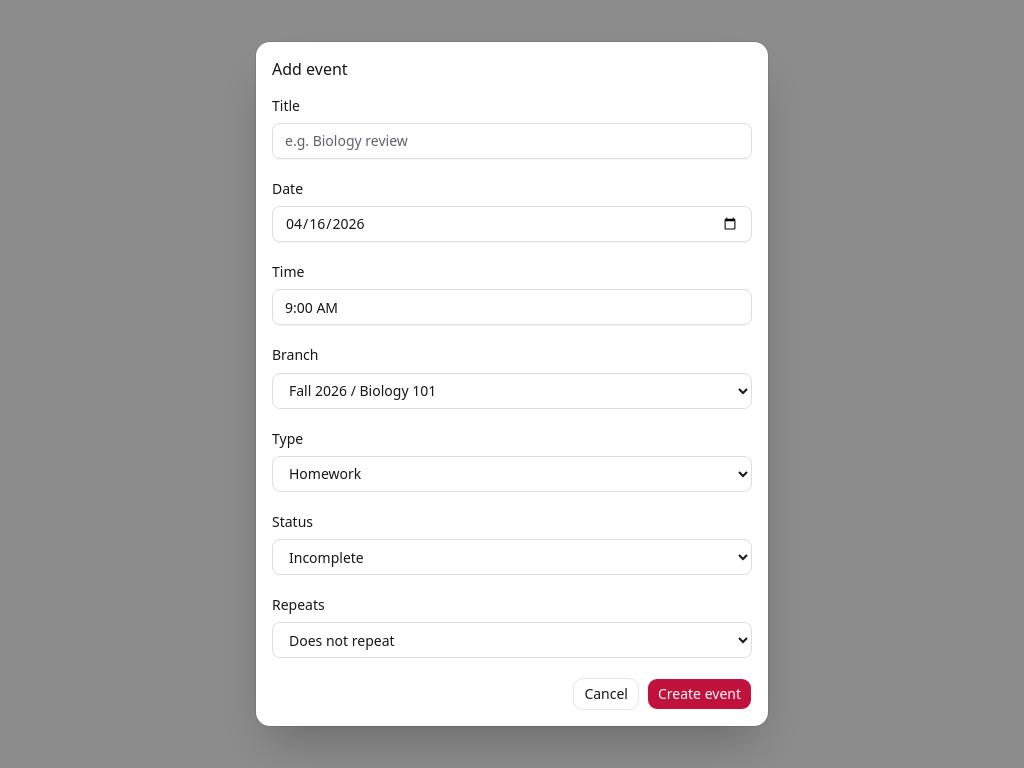
it: EventOverlay › asks when a repeating task ends, and submits that
Expected: the field labelled "Repeats until" is not shown
Type "Problem set" into the field labelled "Title" at {"x": 512, "y": 141}, box [272, 123, 752, 159]
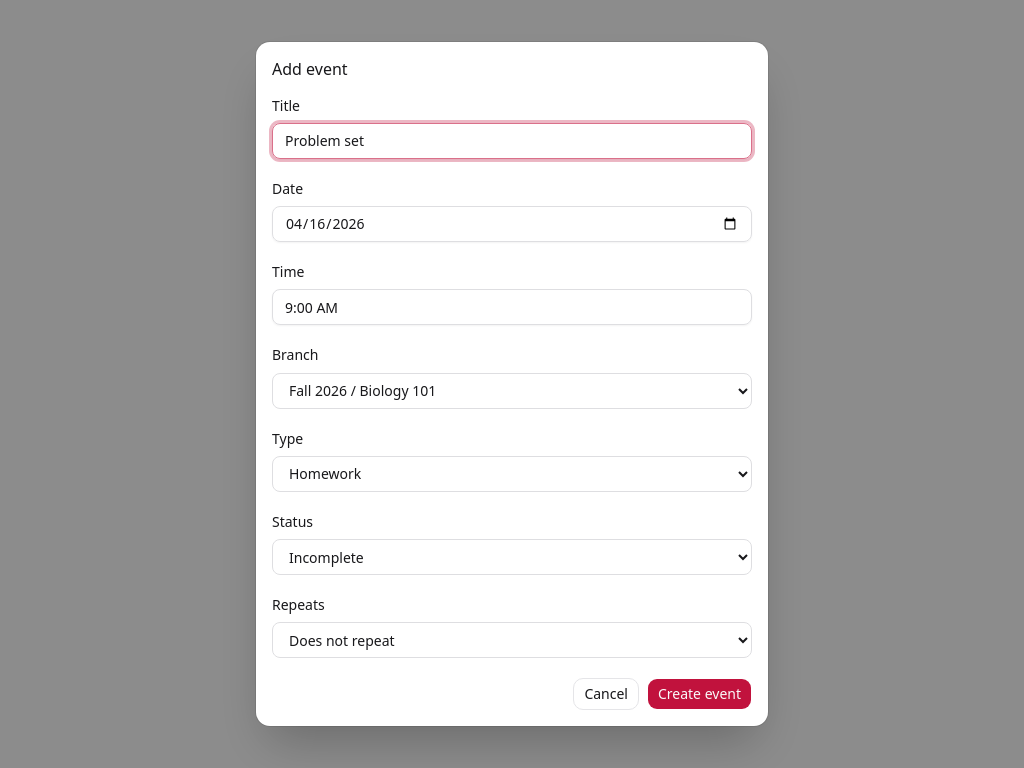
Select "Every week" in the dropdown labelled "Repeats" at {"x": 512, "y": 640}, box [272, 622, 752, 658]
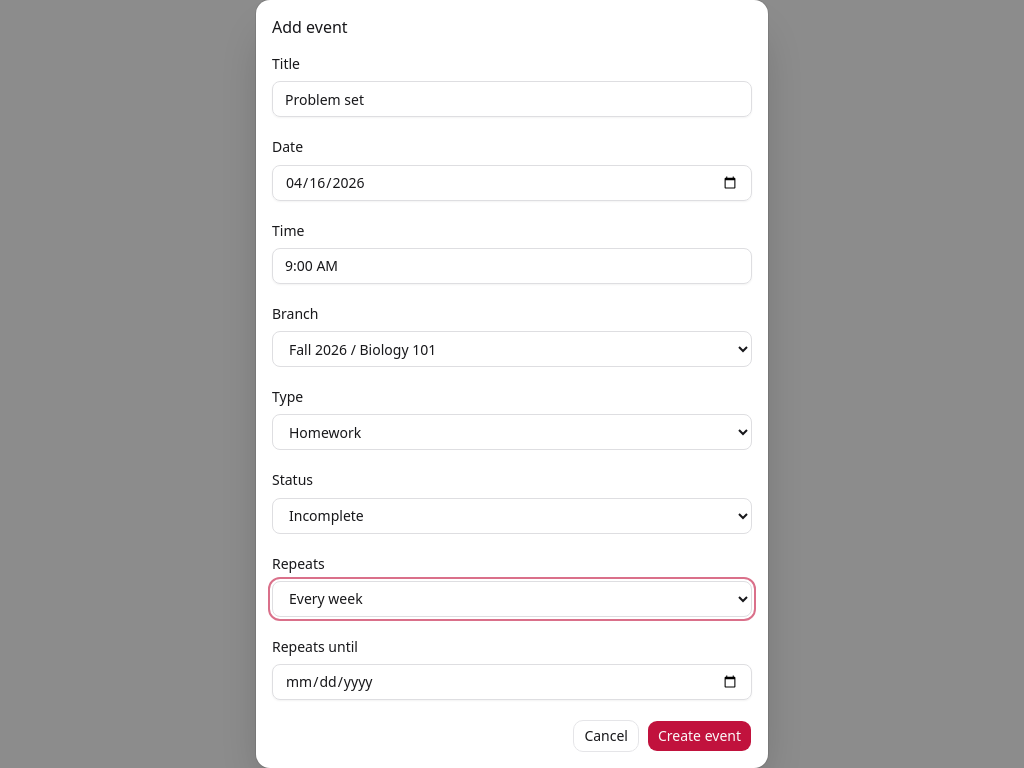
Click the button "Create event" at {"x": 700, "y": 736}, box [647, 720, 752, 752]
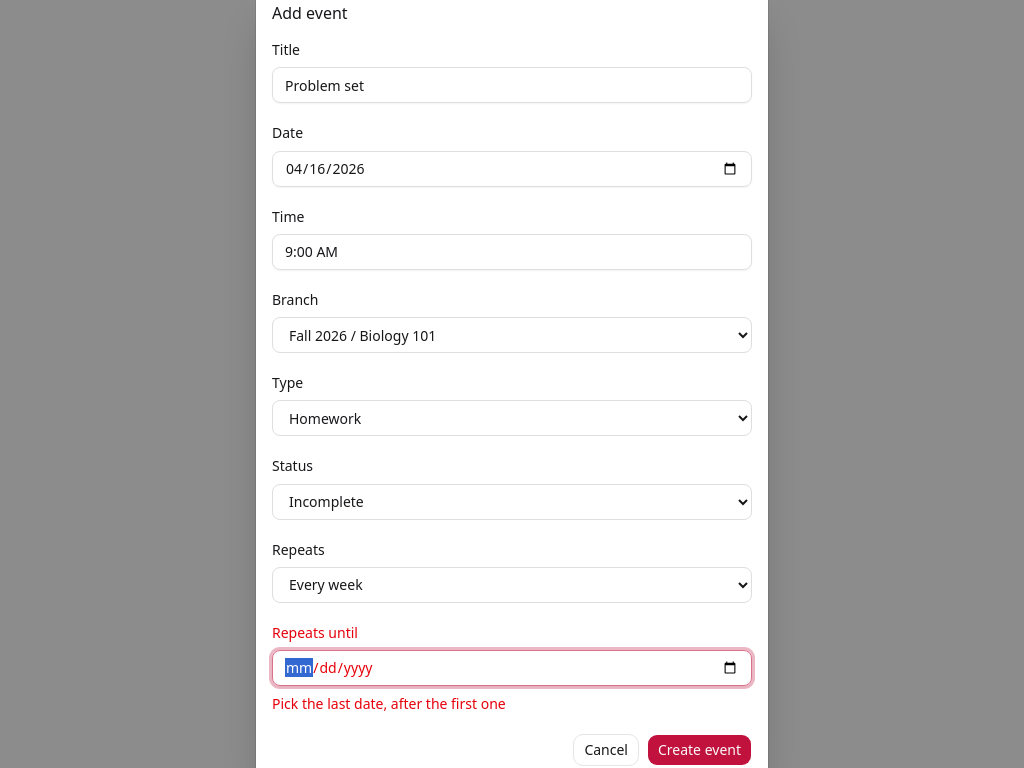
Now the text "Pick the last date, after the first one" is shown, box [272, 694, 506, 713]
Type "2026-05-14" into the date field labelled "Repeats until" at {"x": 512, "y": 668}, box [272, 650, 752, 686]
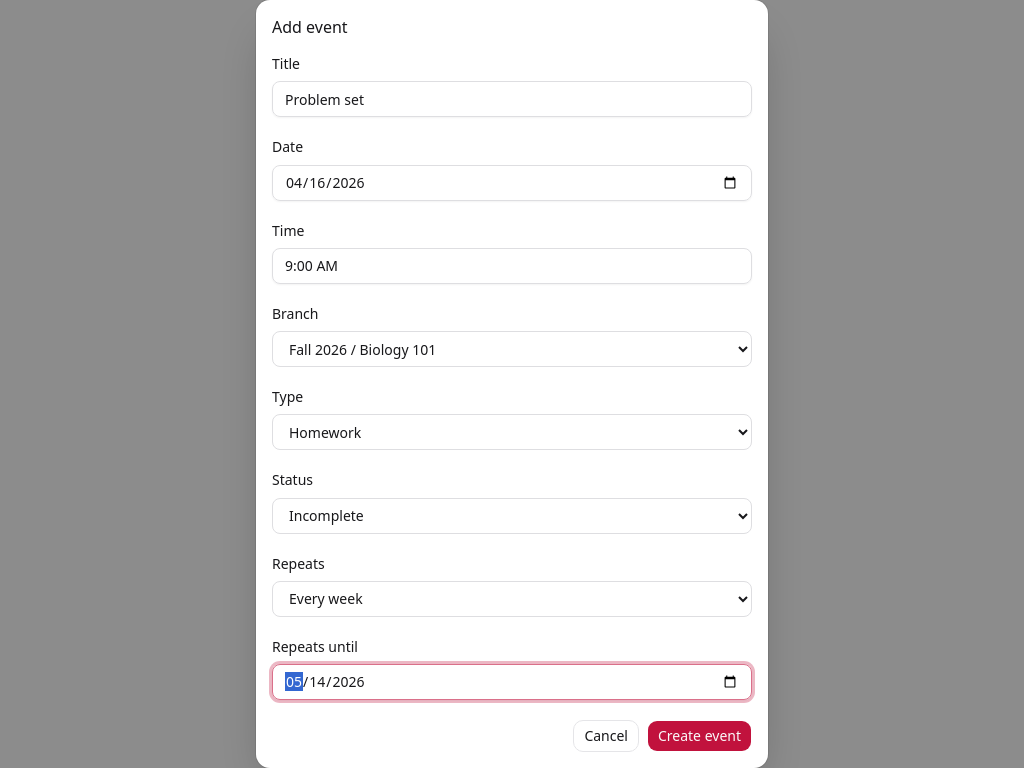
Click the button "Create event" at {"x": 700, "y": 736}, box [647, 720, 752, 752]
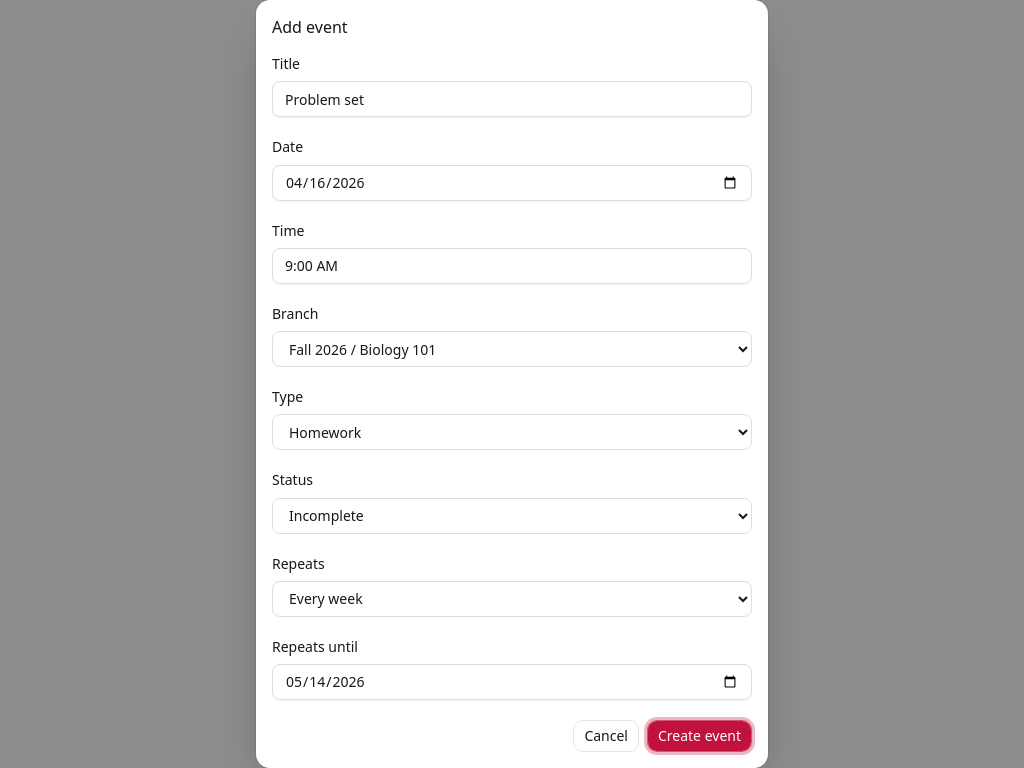
Select "Does not repeat" in the dropdown labelled "Repeats" at {"x": 512, "y": 599}, box [272, 581, 752, 617]
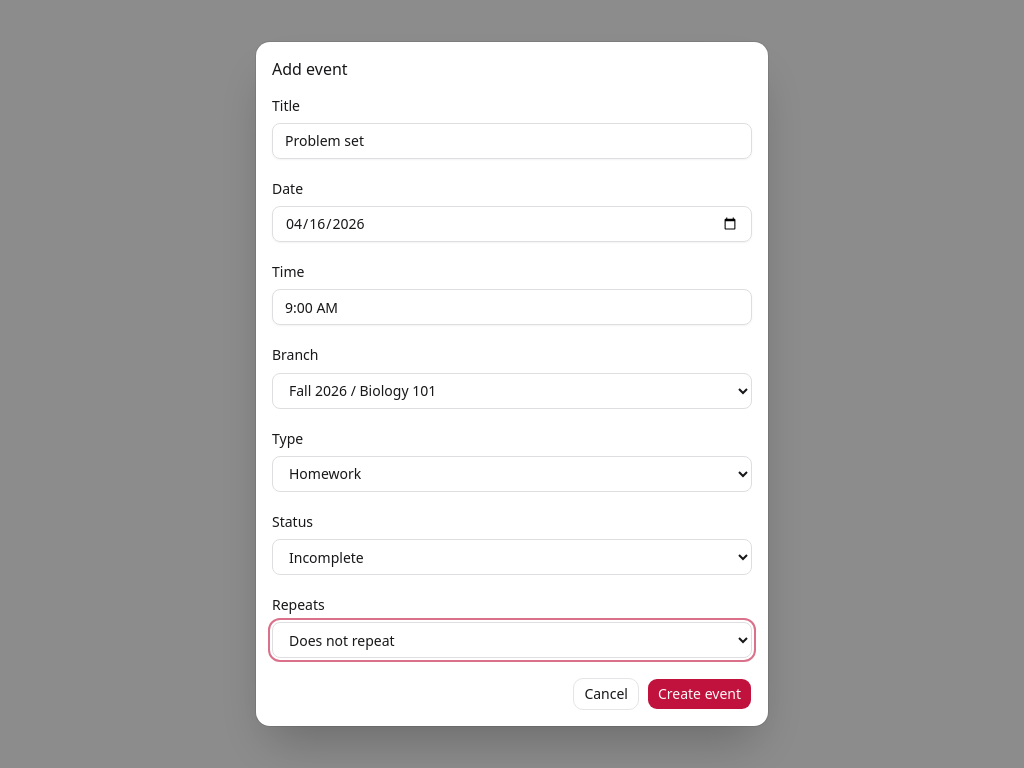
Now the label labelled "Repeats until" is gone
